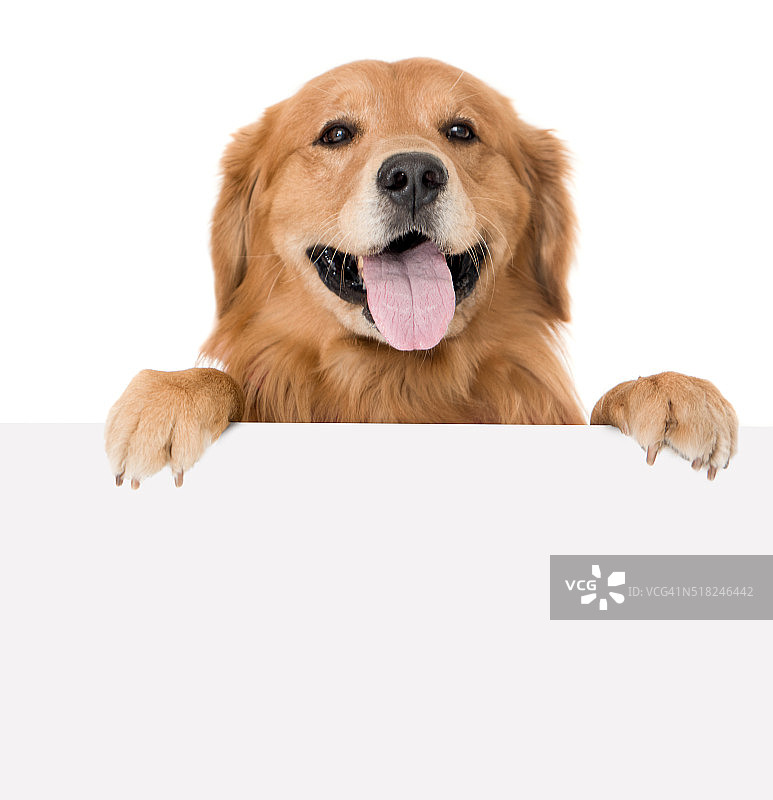dog: (104, 57, 746, 491)
